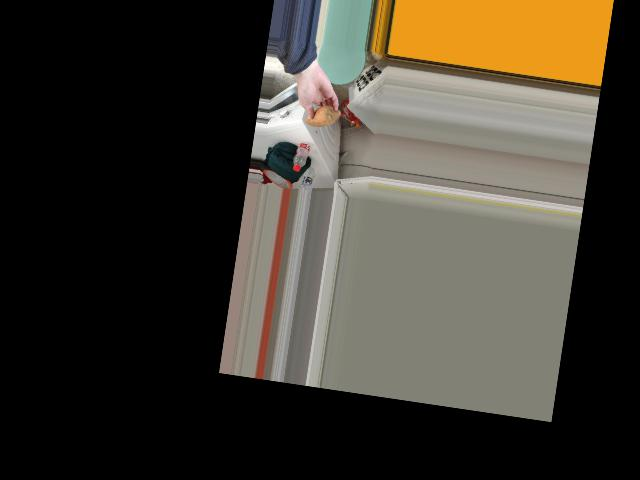sweet_potato: (306, 99, 338, 129)
